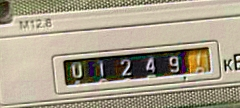0: (70, 59, 84, 80)
1: (95, 58, 106, 78)
2: (119, 57, 133, 78)
4: (144, 55, 156, 74)
7: (192, 48, 205, 67)
9: (167, 54, 181, 75)
screen: (44, 40, 221, 93)
